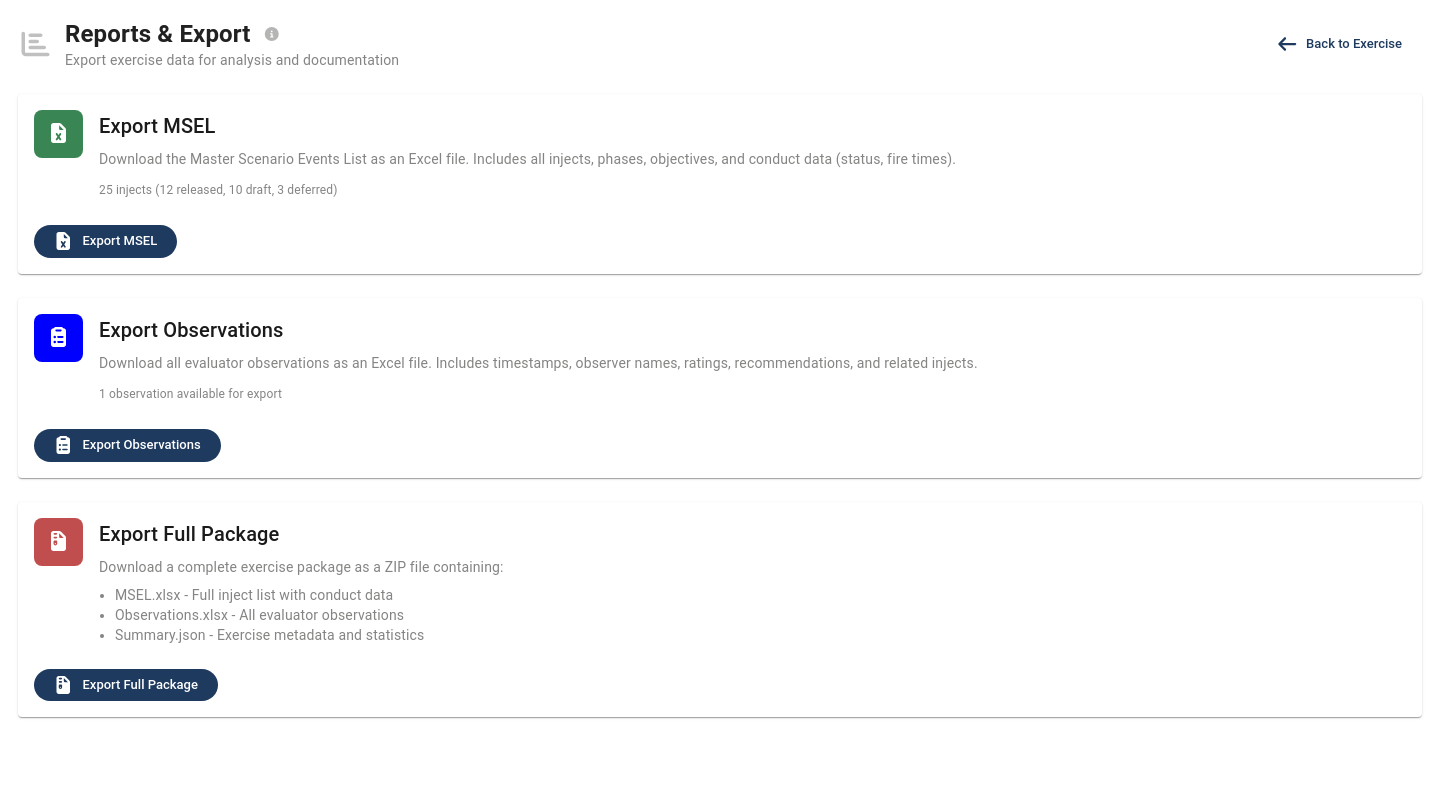
ReportsPage › Error Alert › can close error alert
Trigger error
Click the button "Export MSEL". click: (106, 241)
box: [34, 225, 177, 258]
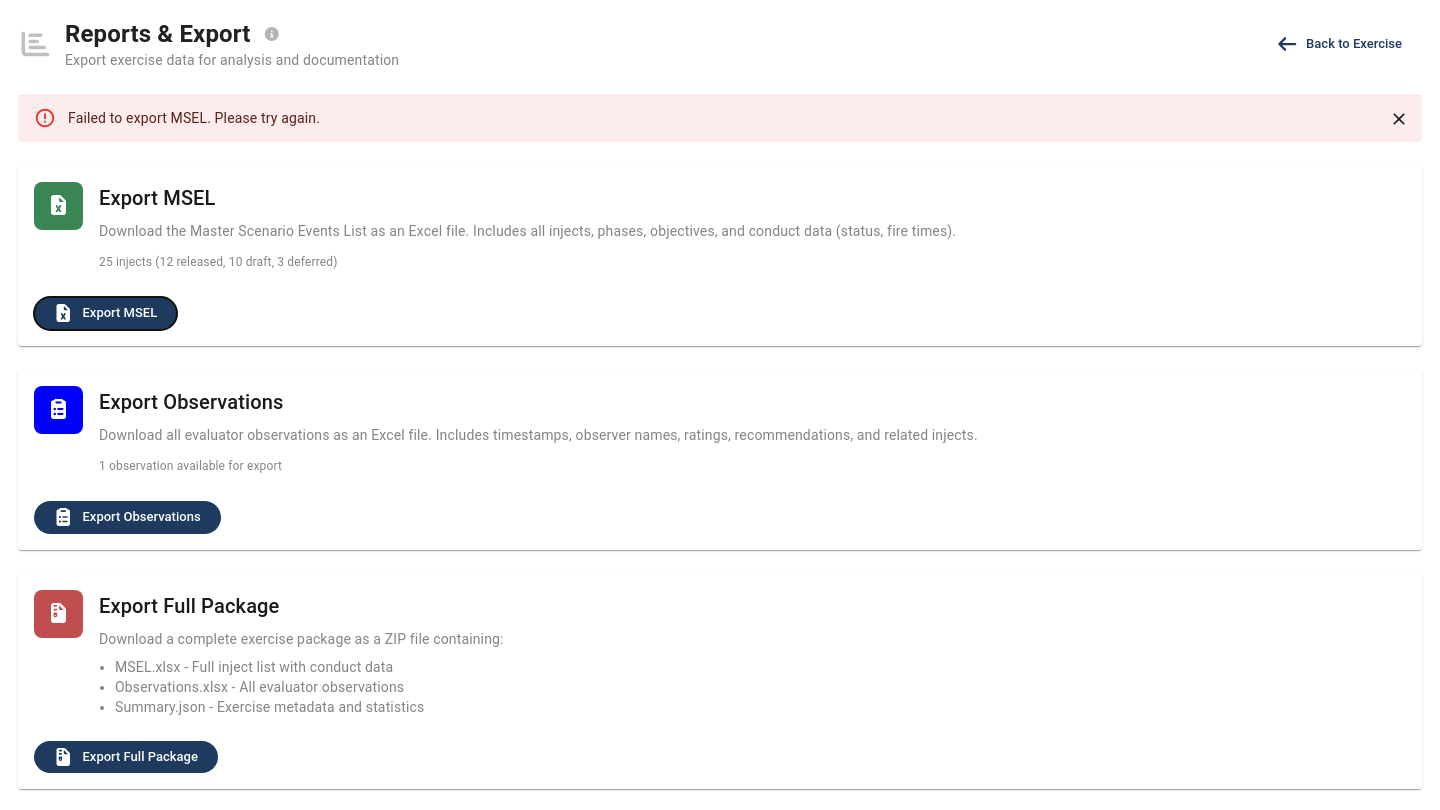
Check: the text "Failed to export MSEL. Please try again." is shown, box [68, 110, 320, 126]
Close alert
Click the button named "close". click: (1399, 119)
box: [1384, 104, 1414, 134]
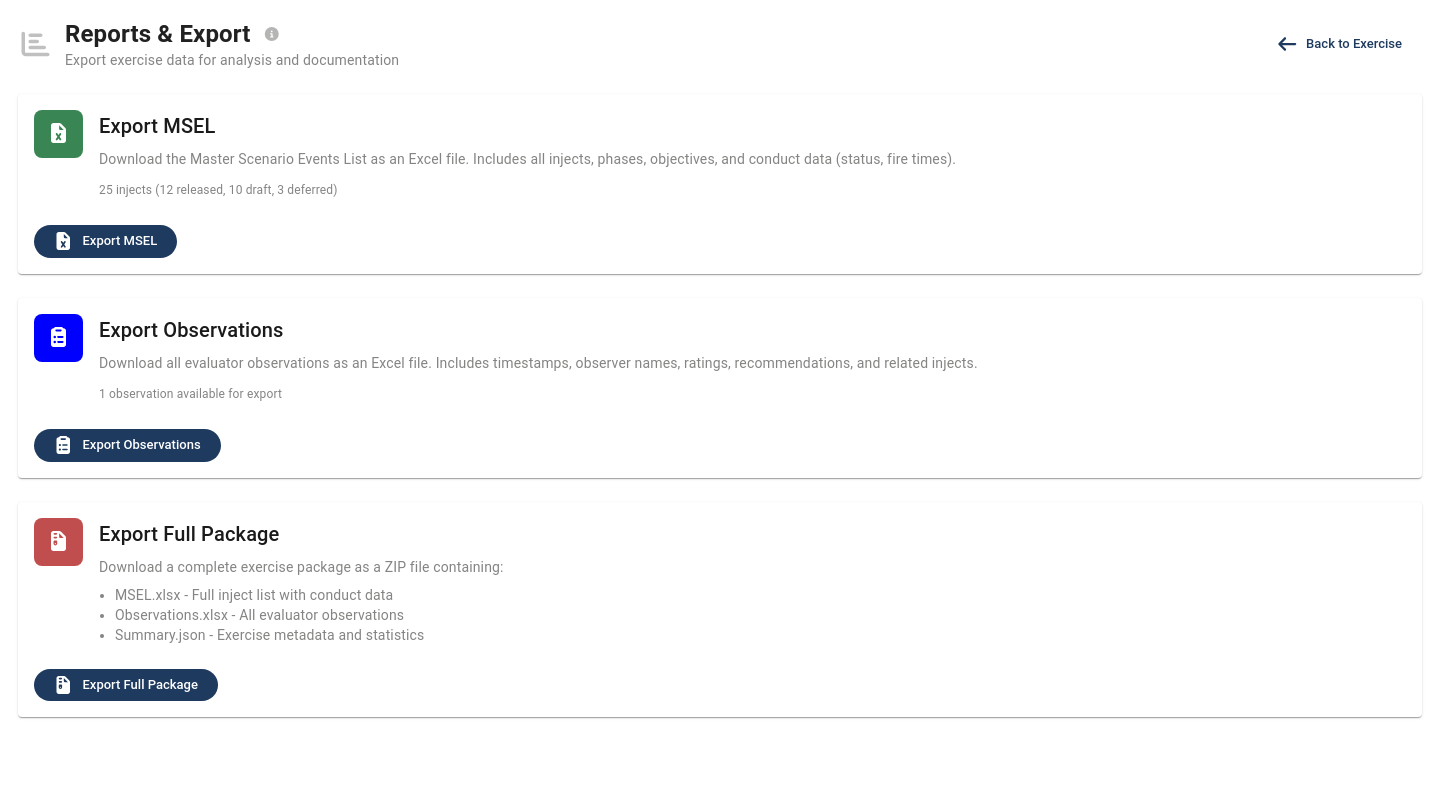
Check: the text "Failed to export MSEL. Please try again." is gone
